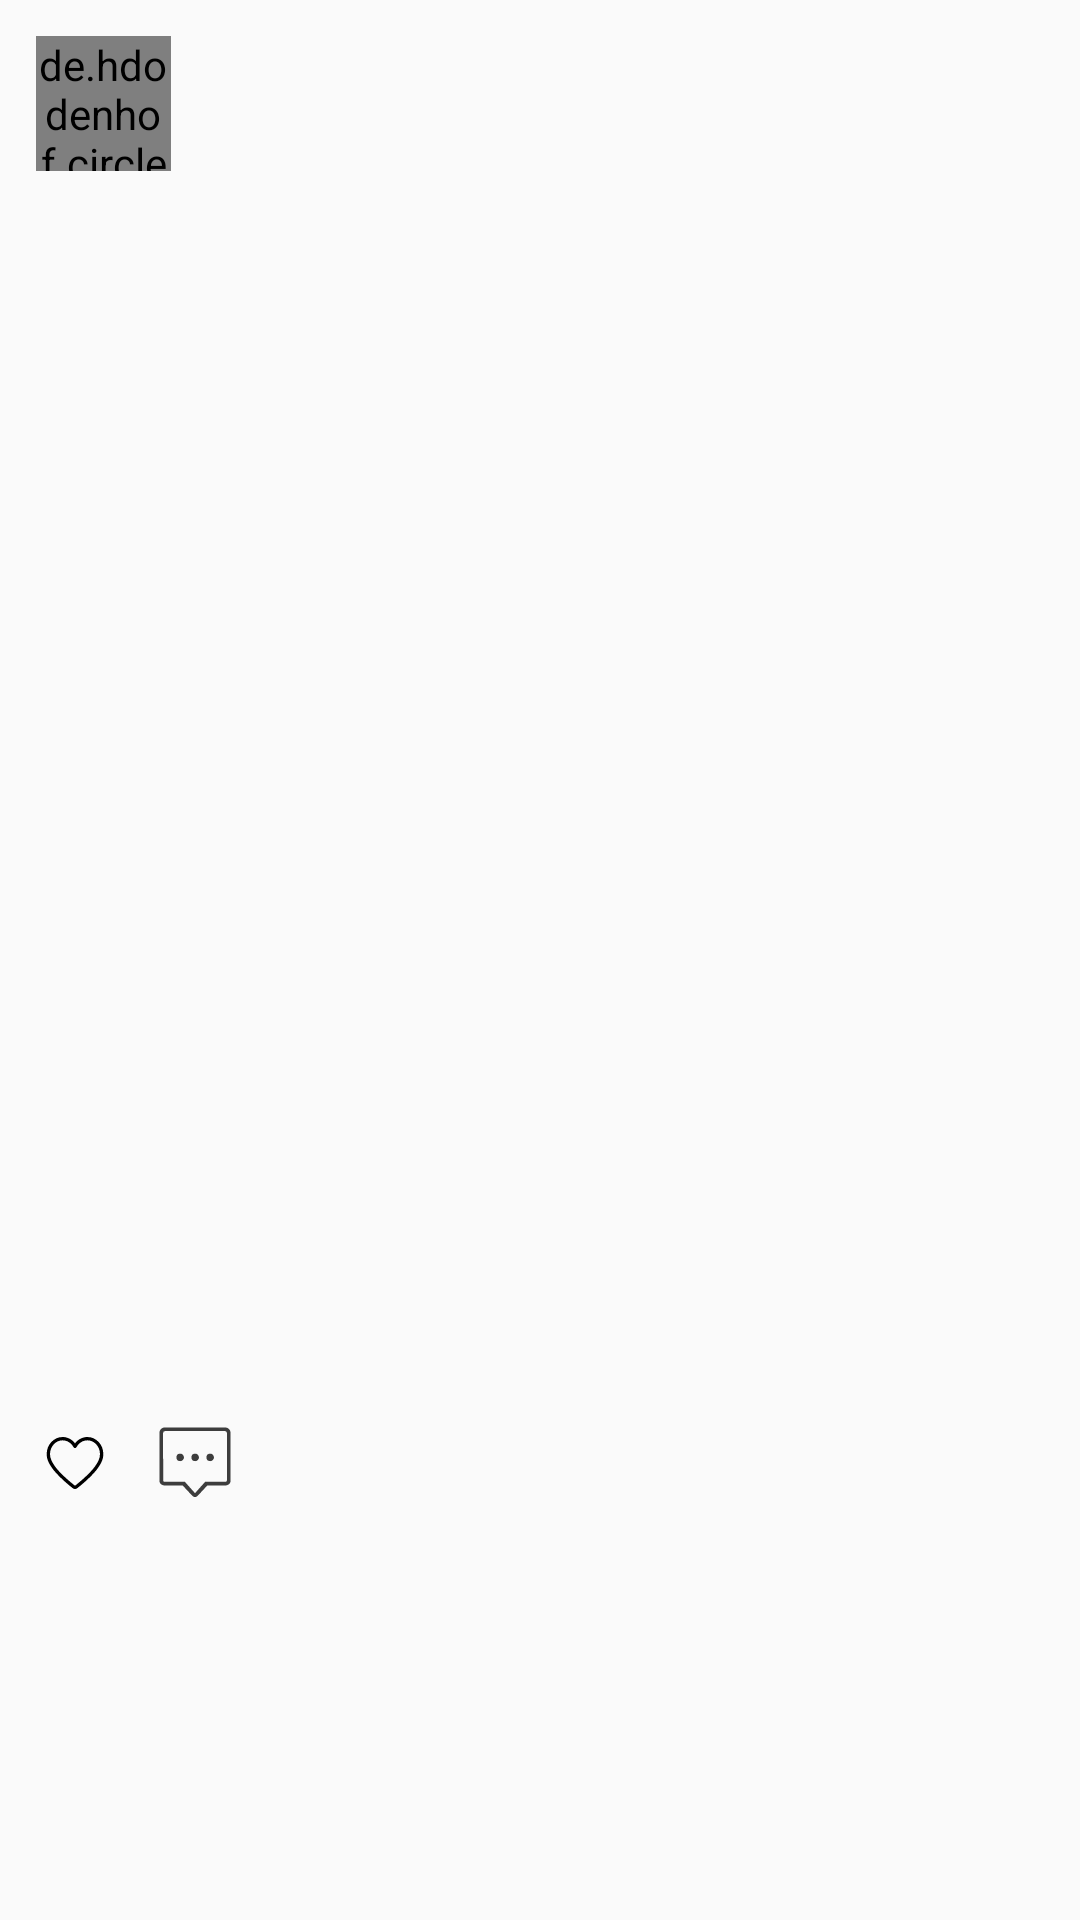

Screen size 1080*1920. Icon name, then its box in pixels as (x1, y1, x2, y2):
comment: (159, 1427, 231, 1497)
love: (46, 1437, 104, 1489)
